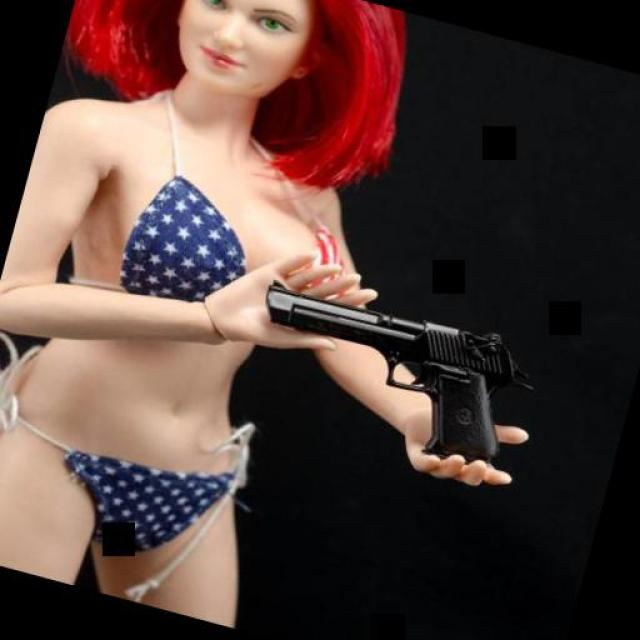gun: (230, 264, 531, 472)
